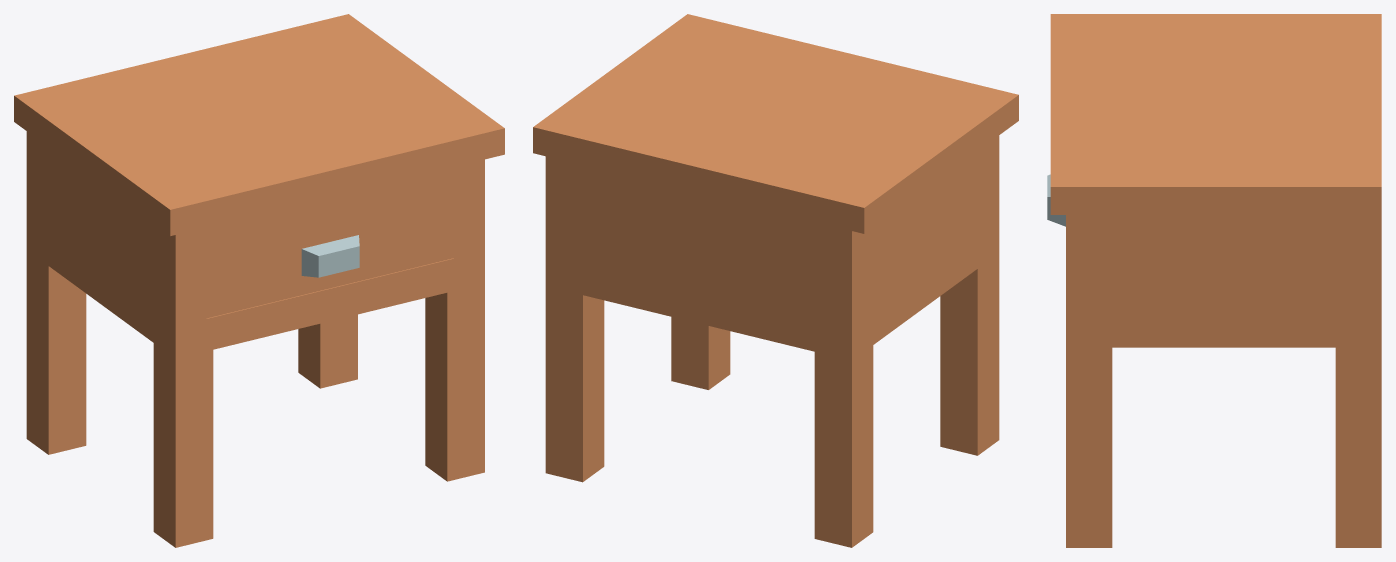
Rendered from Cabinet Bed Drawer Table.glb.
The picture shows the model from 3 angles, left to right: view 1: azimuth 30°, elevation 25°; view 2: azimuth 150°, elevation 25°; view 3: azimuth 270°, elevation 25°; orthographic projection. The views are drawn at different scales.
Visible parts, largest first — view 1: cabinetBedDrawerTable(Clone), drawer; view 2: cabinetBedDrawerTable(Clone); view 3: cabinetBedDrawerTable(Clone).
Boxes of the visible parts, left/top/right/bottom form: cabinetBedDrawerTable(Clone): left=14, top=14, right=504, bottom=547; drawer: left=206, top=192, right=453, bottom=318; cabinetBedDrawerTable(Clone): left=533, top=14, right=1018, bottom=547; cabinetBedDrawerTable(Clone): left=1050, top=14, right=1381, bottom=547.
Size of the model in its own units: 0.266 by 0.2632 by 0.2173.
